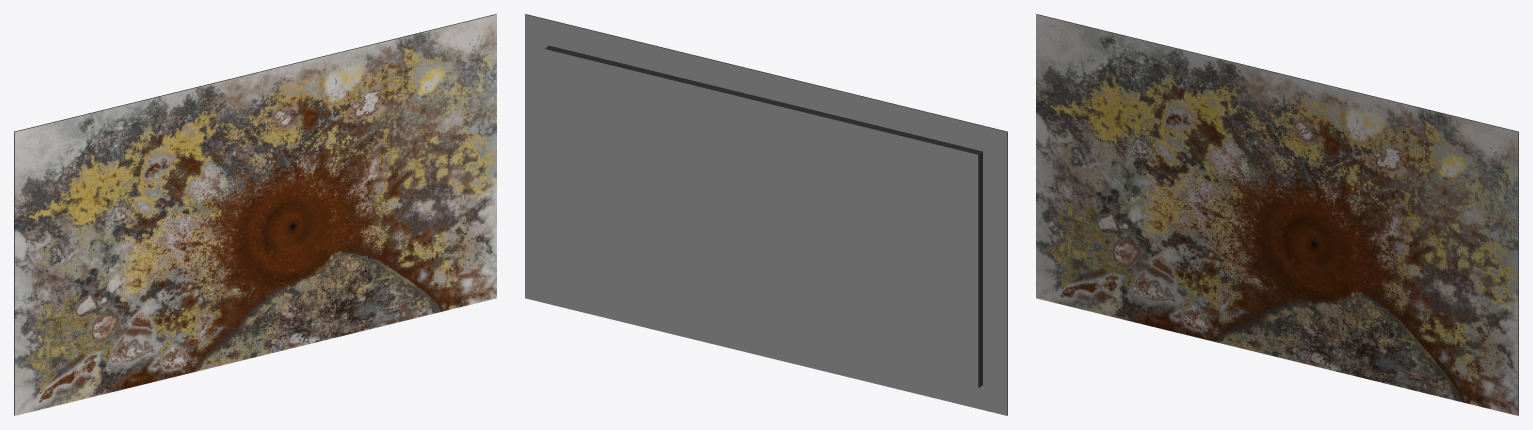
File: hz061_grand_dibond.glb
3 views of the same model, side by side, from view 1: azimuth 30°, elevation 25°; view 2: azimuth 150°, elevation 25°; view 3: azimuth 330°, elevation 25° (orthographic).
Visible parts, largest first — view 1: hz061_grand_dibond; view 2: hz061_grand_dibond; view 3: hz061_grand_dibond.
Part boxes in pixels (x1=…): hz061_grand_dibond: x1=14, y1=14, x2=496, y2=415; hz061_grand_dibond: x1=525, y1=14, x2=1007, y2=415; hz061_grand_dibond: x1=1036, y1=14, x2=1518, y2=415.
Size of the model in its own units: 1.2 by 0.675 by 0.023.
Materials: 4 (1 with a texture image).
